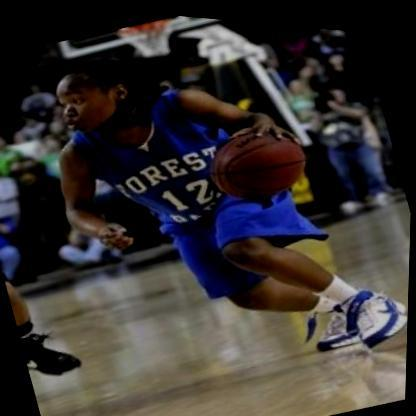basketball: (202, 110, 316, 212)
